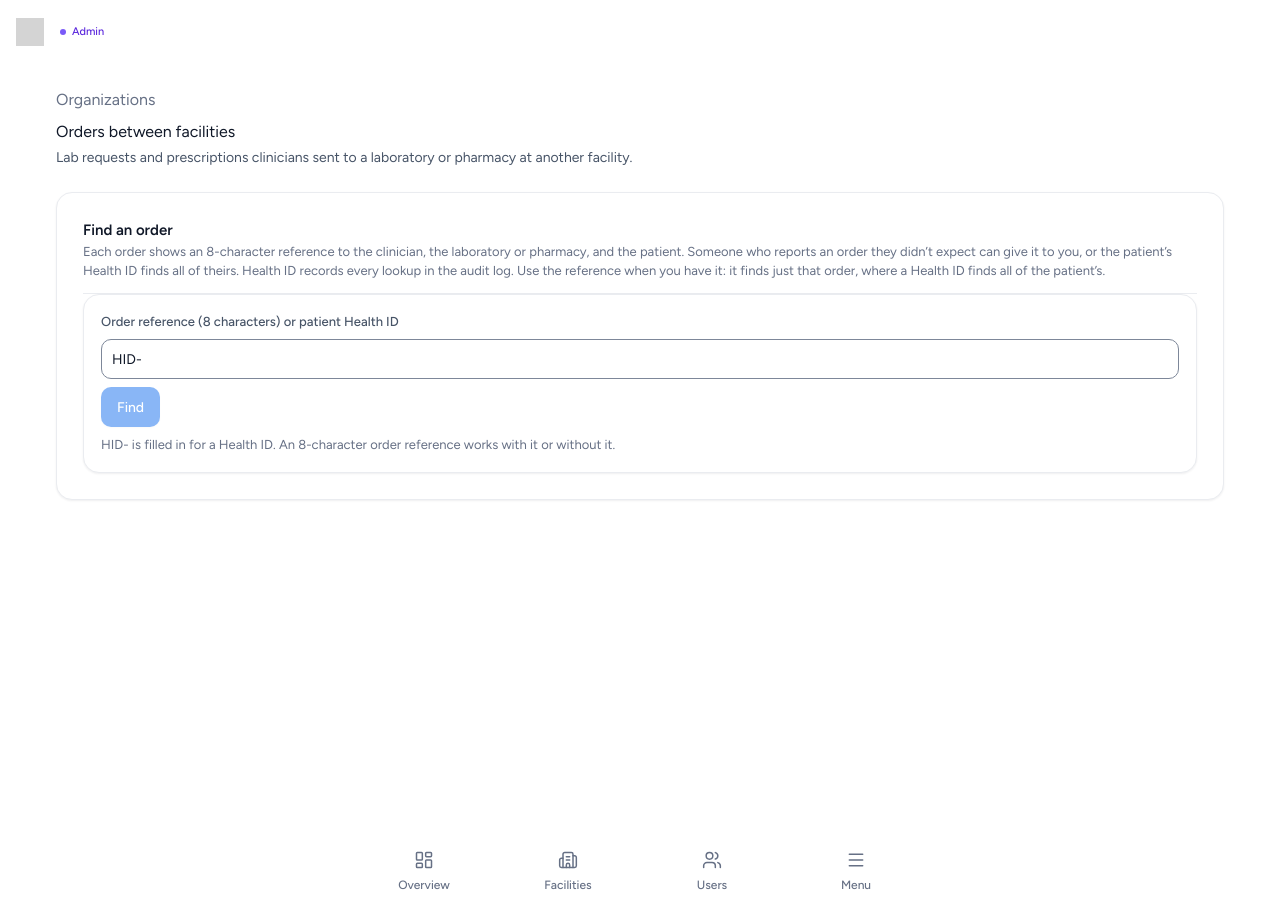
Test case: orders between facilities in the Novu console › offers no Close on a completed order whose access has ended: 45 days have passed since it was accepted
Replace the text in the field labelled "Order reference (8 characters) or patient Health ID" with "9C1B2D3E": (640, 359) [101, 339, 1179, 379]
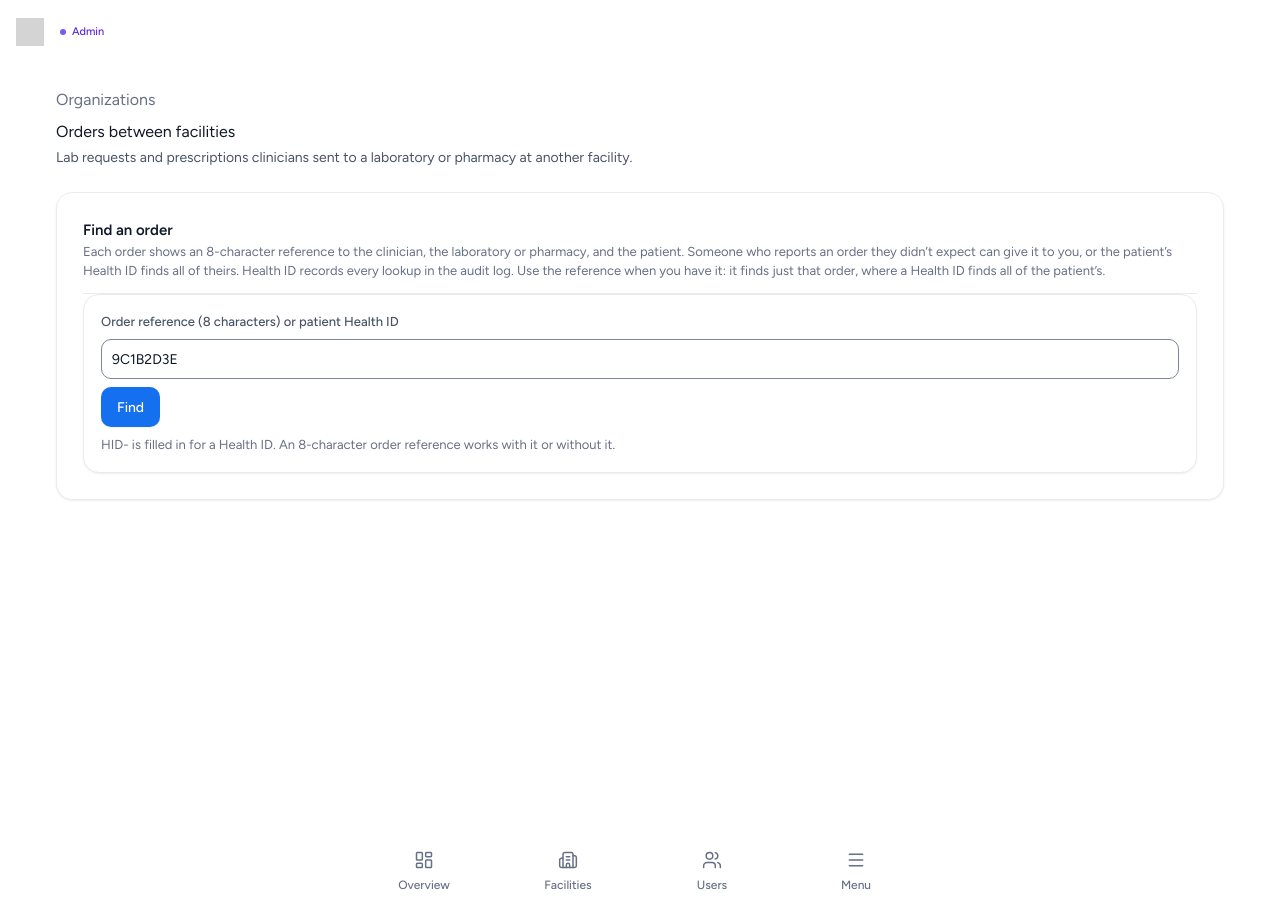
Click the button "Find": click(131, 407) [101, 387, 160, 427]
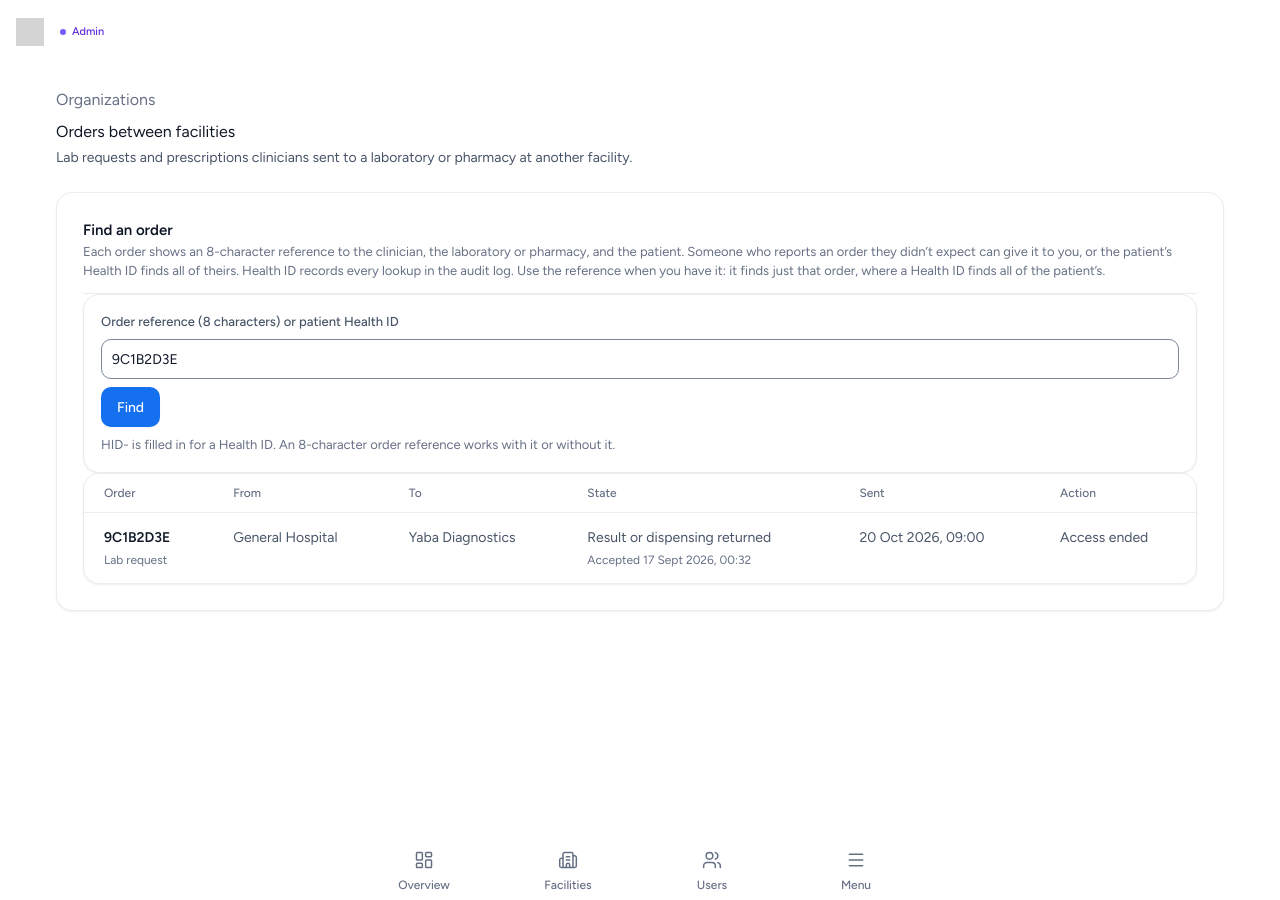
expect the text "Result or dispensing returned" is shown: met, box [587, 528, 771, 546]
expect the text "Access ended" is shown: met, box [1040, 512, 1196, 582]
